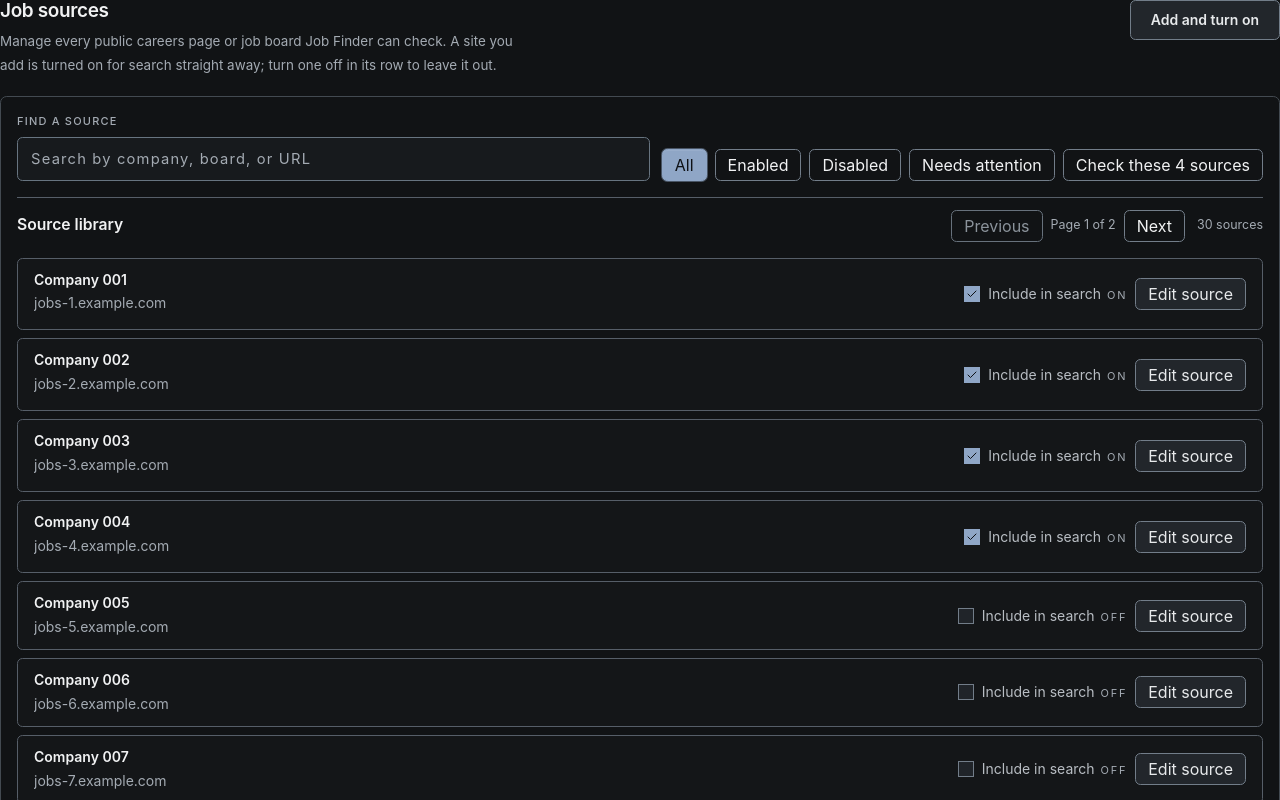
it: ProfileJobSourcesTab › keeps top pager disabled states truthful at both pagination boundaries
Expected: the button with aria-label "Previous source page (top of list)" is disabled, [951,210,1043,242]
Click the button with aria-label "Next source page (top of list)" at (1154, 226), box [1124,210,1185,242]
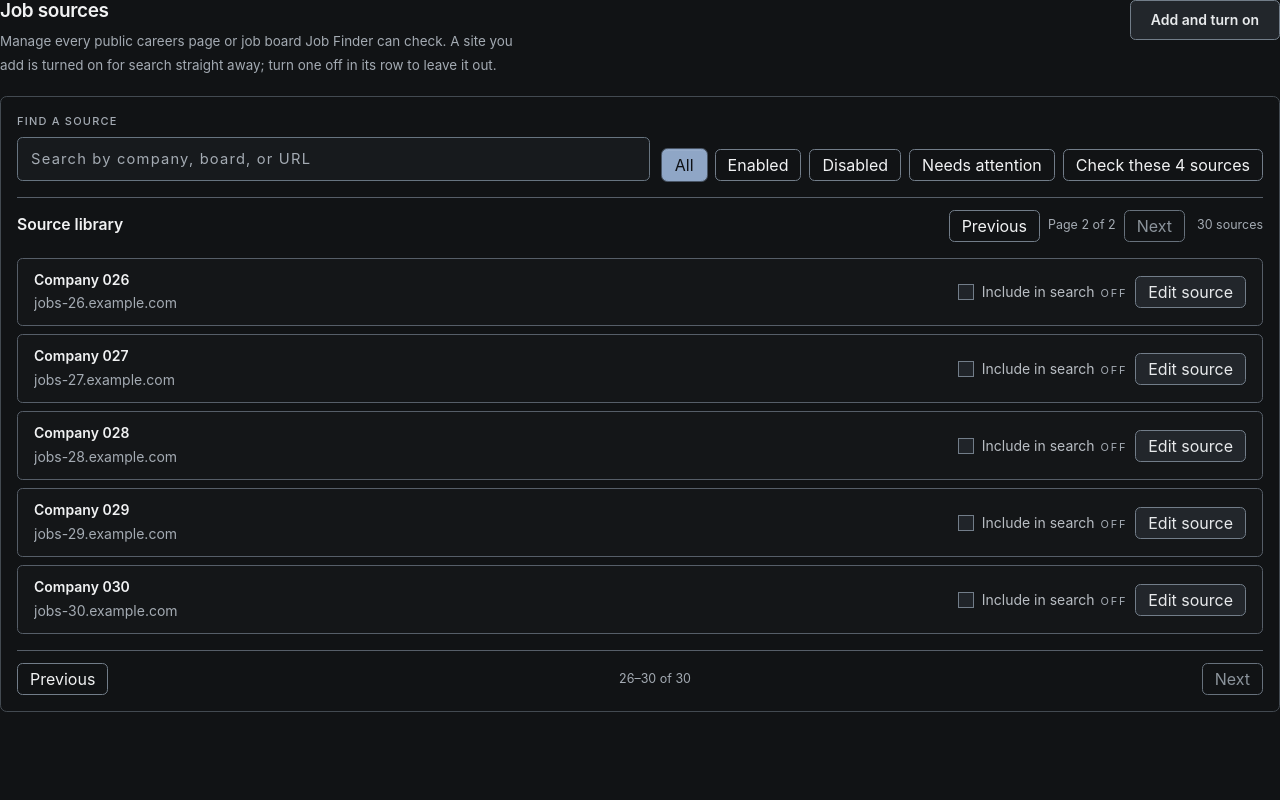
Now the text "26–30 of 30" is shown, box [619,670,691,688]
Now the heading "Company 001" is gone
Now the button with aria-label "Next source page (top of list)" is disabled, box [1124,210,1185,242]
Click the button with aria-label "Previous source page (top of list)" at (994, 226), box [949,210,1040,242]
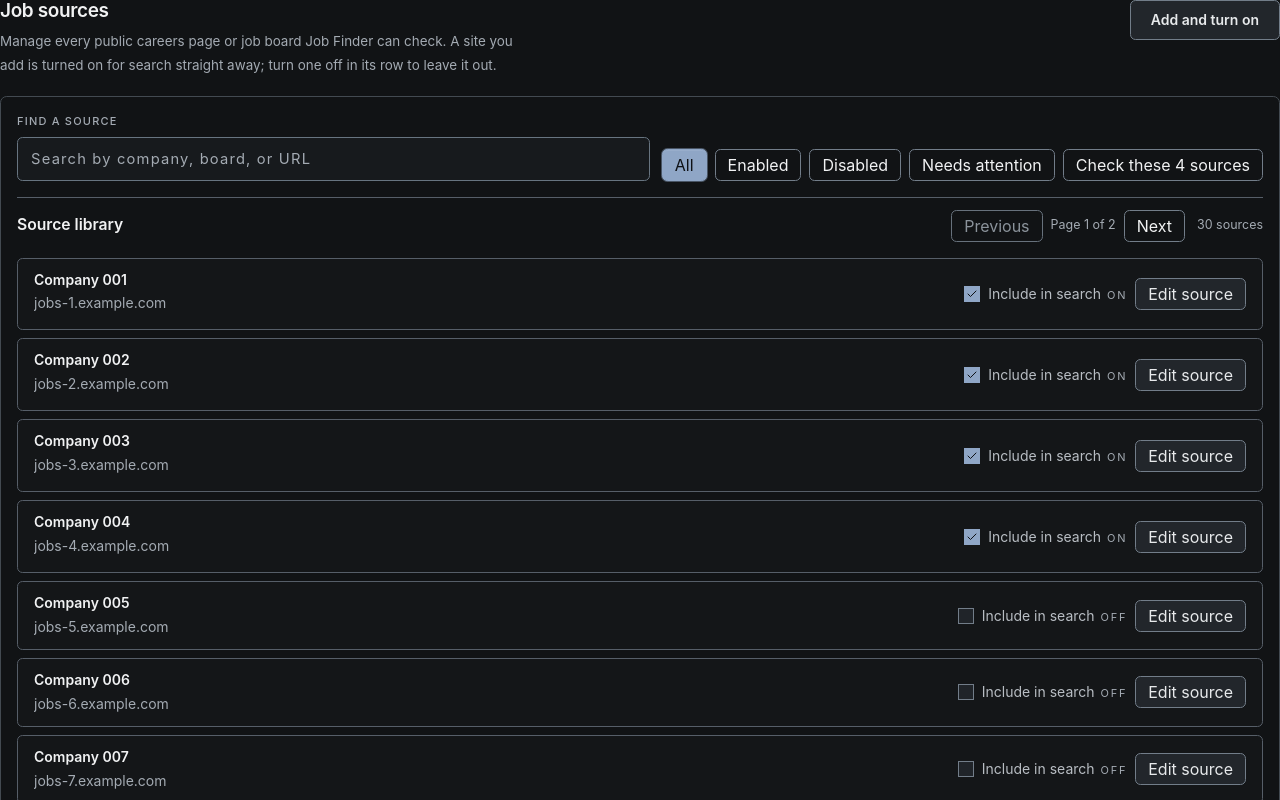
Now the button with aria-label "Previous source page (top of list)" is disabled, box [951,210,1043,242]
Now the button with aria-label "Next source page (top of list)" is enabled, box [1124,210,1185,242]
